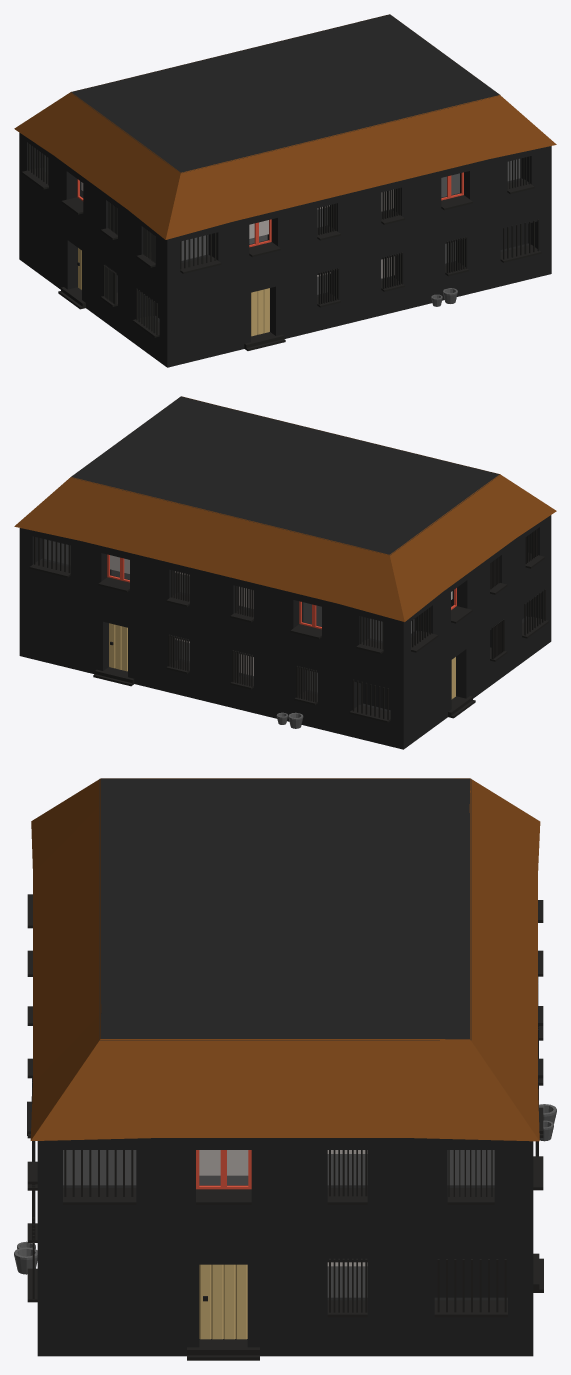
Rendered from CasaProcedural_1.fbx.
3 views of the same model, one above another, from view 1: azimuth 30°, elevation 25°; view 2: azimuth 150°, elevation 25°; view 3: azimuth 270°, elevation 25° (orthographic). The views are drawn at different scales.
Parts seen in each view (by area): view 1: Procedural_Building; view 2: Procedural_Building; view 3: Procedural_Building.
Part boxes in pixels (x1,y1,x2,y2): Procedural_Building: (14,14,556,367); Procedural_Building: (14,396,556,749); Procedural_Building: (14,778,556,1360).
Size of the model in its own units: 618 by 259 by 438.
